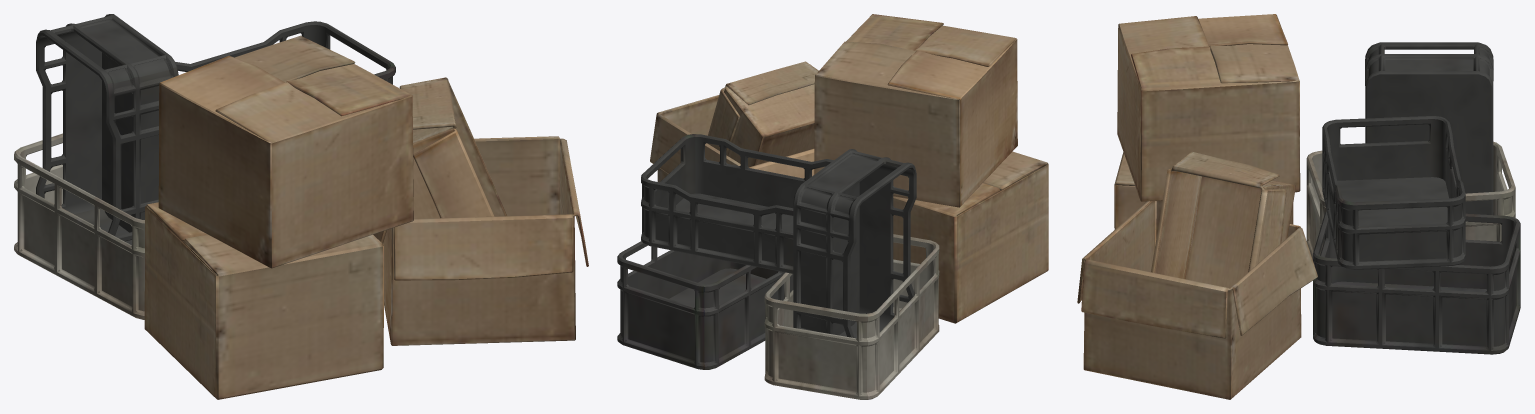
Rendered from prop_medium_002.glb.
3 views of the same model, side by side, from view 1: azimuth 30°, elevation 25°; view 2: azimuth 150°, elevation 25°; view 3: azimuth 270°, elevation 25° (orthographic). The views are drawn at different scales.
Parts seen in each view (by area): view 1: Building_12_018; view 2: Building_12_018; view 3: Building_12_018.
Boxes of the visible parts, <box> form: Building_12_018: <box>14,14,588,399</box>; Building_12_018: <box>617,14,1048,399</box>; Building_12_018: <box>1077,14,1520,399</box>.
Bounding box in the file's own units: 1.12 × 0.6911 × 1.2.
Materials: 1 (1 with a texture image).
